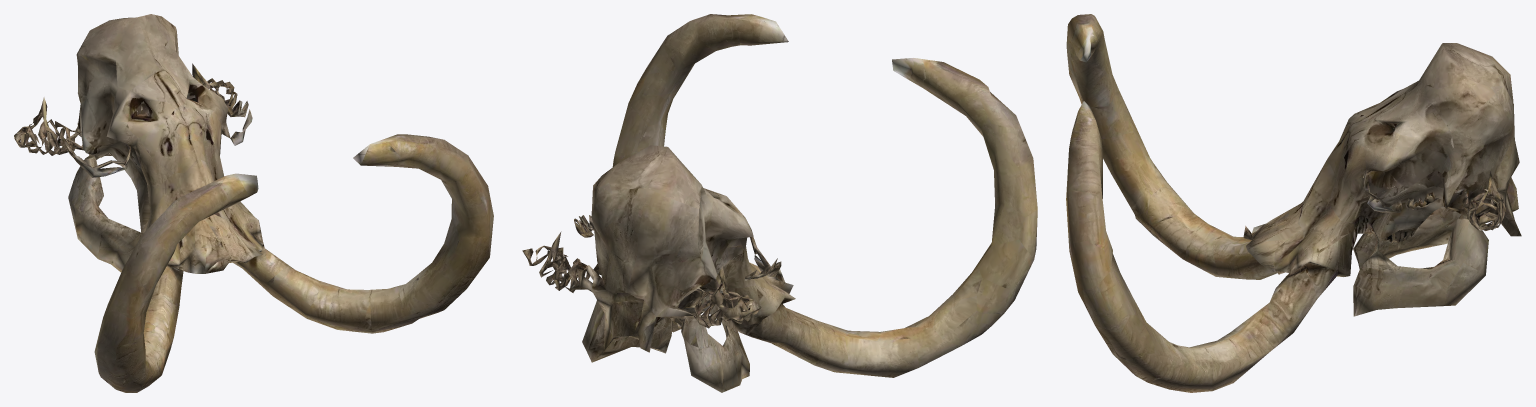
3 views of the same model, side by side, from view 1: azimuth 30°, elevation 25°; view 2: azimuth 150°, elevation 25°; view 3: azimuth 270°, elevation 25° (orthographic). The views are drawn at different scales.
Visible parts, largest first — view 1: Mesh_0; view 2: Mesh_0; view 3: Mesh_0.
Part boxes in pixels (x1,y1,x2,y2): Mesh_0: [14, 14, 493, 392]; Mesh_0: [522, 14, 1037, 392]; Mesh_0: [1066, 14, 1521, 392].
Bounding box in the file's own units: 2 × 1.29 × 1.87.
Materials: 1 (1 with a texture image).
